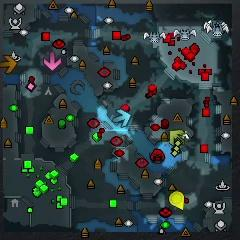p4: (169, 191, 184, 210)
x1: (43, 51, 61, 71)
x2: (170, 130, 186, 145)
x3: (113, 109, 131, 128)
x5: (0, 55, 17, 74)
